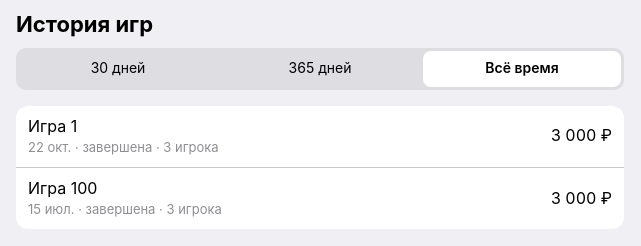
HistoryPage › filters by a rolling period
Check: the number of buttons "Игра" is 2, box [16, 106, 624, 168]; [16, 168, 624, 229]
What coordinates should you click on to do the following:
click the tab "30 дней"
I would click on:
 (118, 69)
Its box is [19, 51, 217, 87].
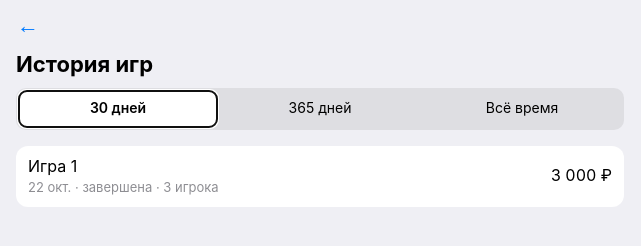
Check: the number of buttons "Игра" is 1, box [16, 146, 624, 207]
